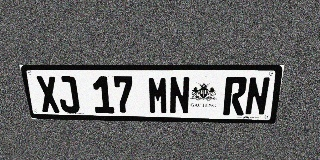1: (91, 76, 115, 113)
7: (112, 76, 135, 114)
J: (55, 76, 80, 113)
M: (147, 76, 169, 114)
N: (244, 77, 271, 116), (169, 76, 190, 115)
R: (223, 77, 248, 115)
X: (35, 76, 61, 113)
